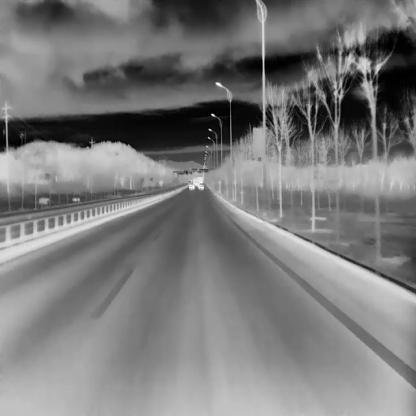car: (198, 183, 204, 188), (188, 183, 193, 188)
truck: (197, 176, 202, 186), (192, 176, 197, 186)
